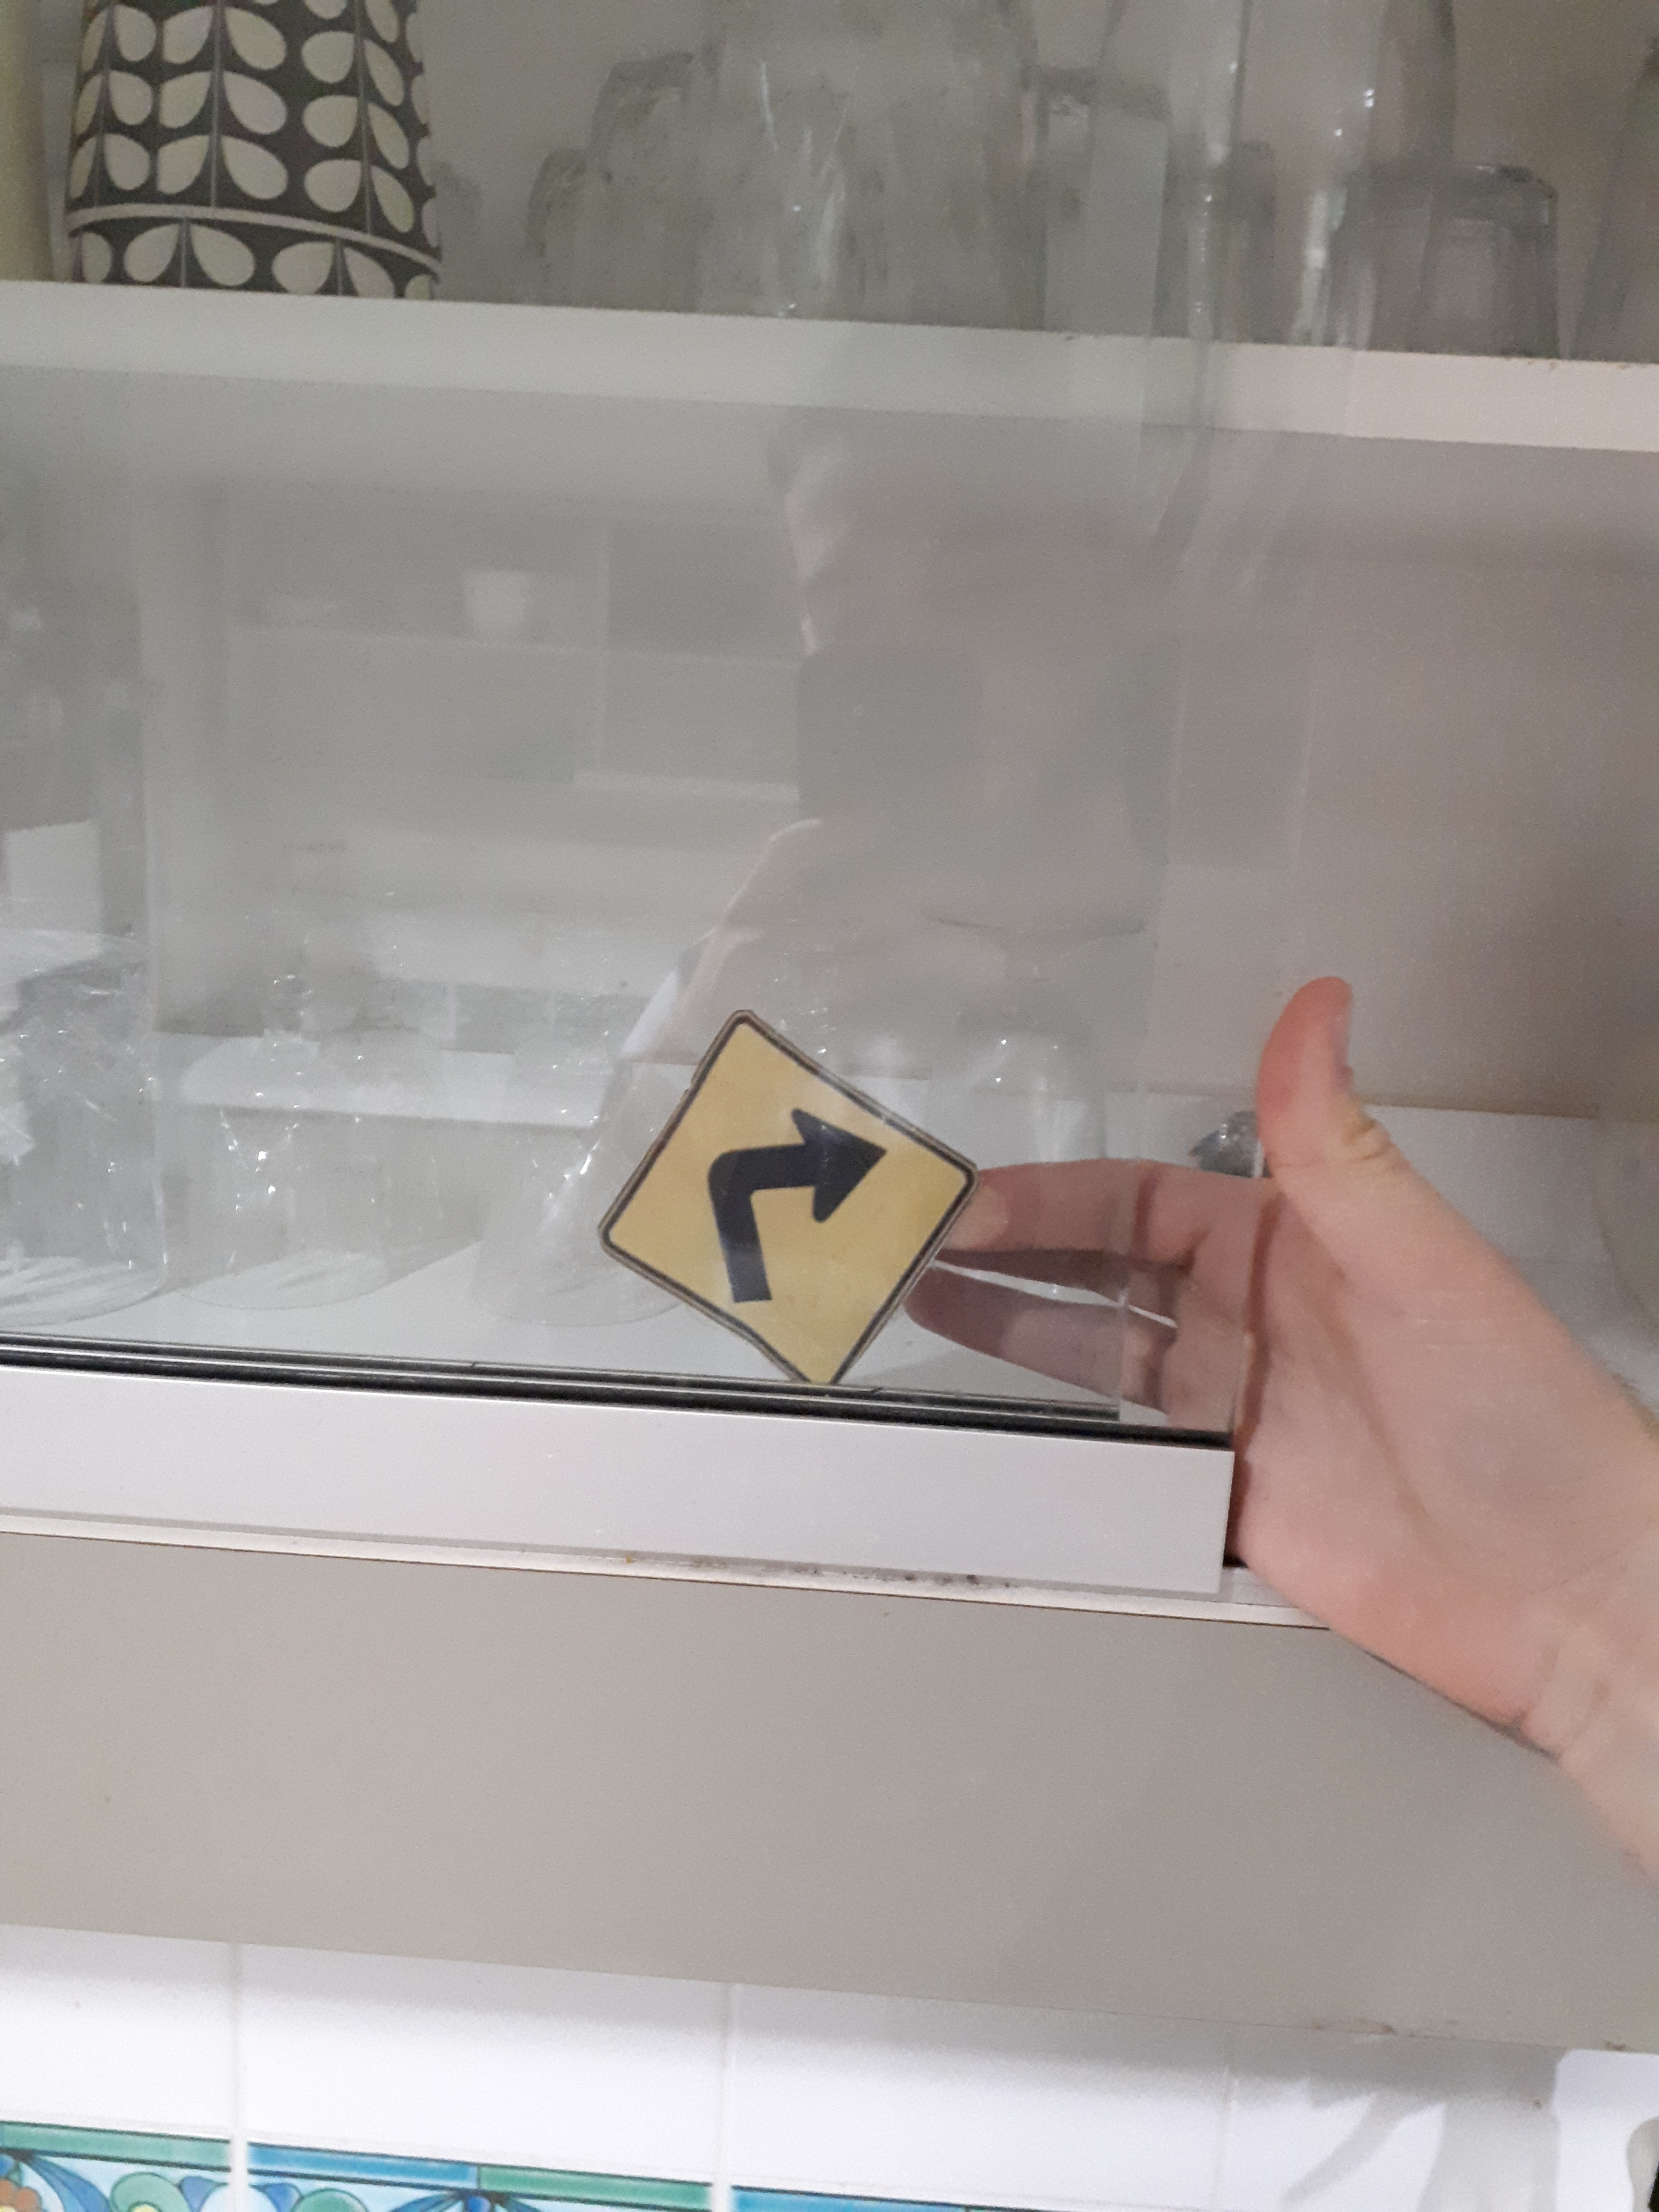right: (394, 1113, 1011, 1322), (681, 1092, 927, 1385)
